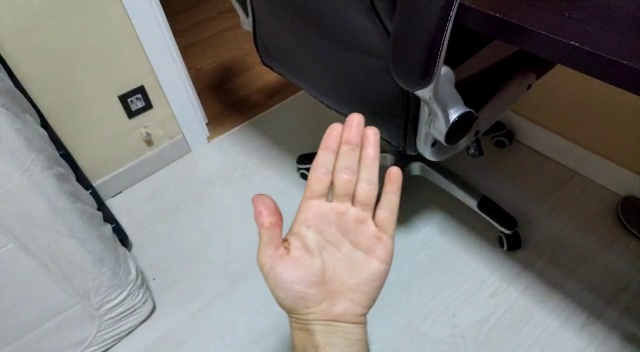Palm: (248, 109, 407, 332)
